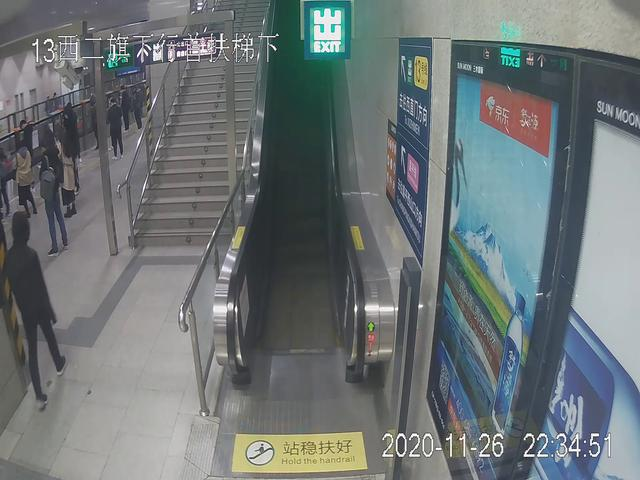person: (3, 212, 71, 406), (40, 138, 71, 255), (51, 128, 91, 217), (8, 138, 44, 217), (108, 98, 125, 164)
